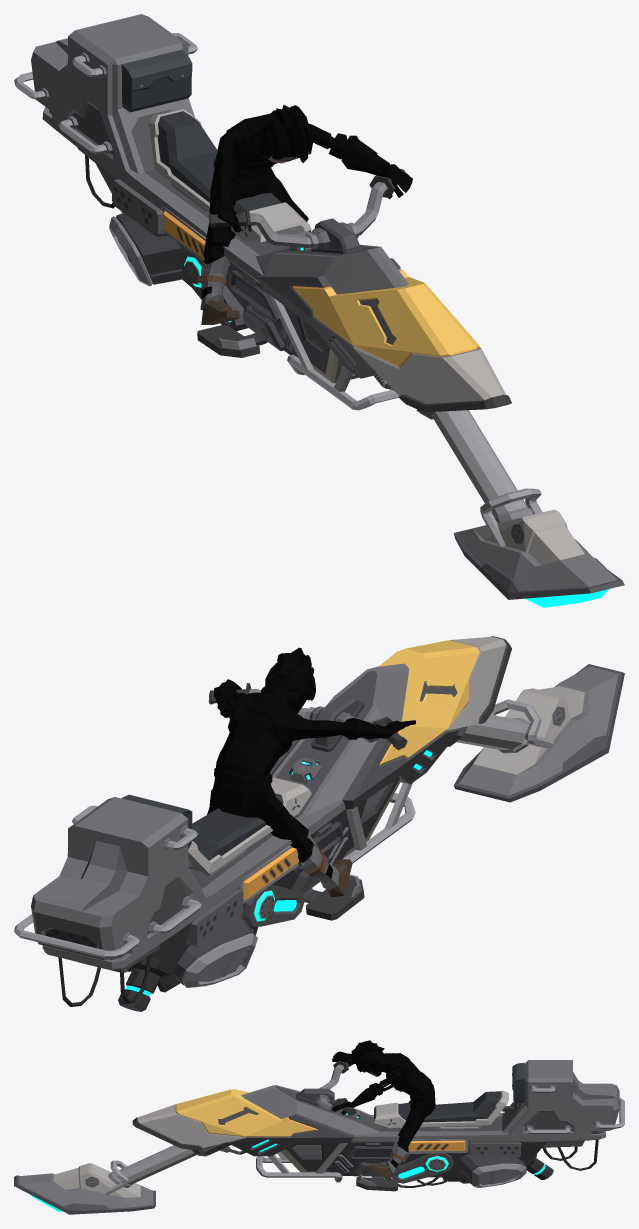
The model's file is avi-jetbike.glb.
3 renders of one model, top to bottom at view 1: azimuth 30°, elevation 25°; view 2: azimuth 150°, elevation 25°; view 3: azimuth 270°, elevation 25°, orthographic. The views are drawn at different scales.
Parts seen in each view (by area): view 1: SM_Veh_Hover_Bike_02, Scifi_city:Character_Augmented_Male_01; view 2: SM_Veh_Hover_Bike_02, Scifi_city:Character_Augmented_Male_01; view 3: SM_Veh_Hover_Bike_02, Scifi_city:Character_Augmented_Male_01.
Part boxes in pixels (box(x1,y1,x2,y2)): SM_Veh_Hover_Bike_02: box(14, 14, 624, 607); Scifi_city:Character_Augmented_Male_01: box(194, 104, 412, 324); SM_Veh_Hover_Bike_02: box(14, 636, 624, 1011); Scifi_city:Character_Augmented_Male_01: box(207, 647, 415, 897); SM_Veh_Hover_Bike_02: box(14, 1060, 624, 1214); Scifi_city:Character_Augmented_Male_01: box(332, 1040, 435, 1180).
Bounding box in the file's own units: 1.33 × 1.9 × 6.39.
2 materials, 2 textured.
